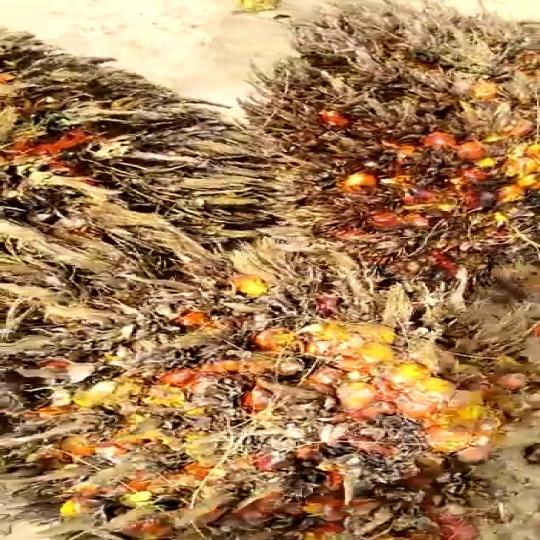terlalu masak: (0, 265, 539, 537), (247, 11, 540, 260)
